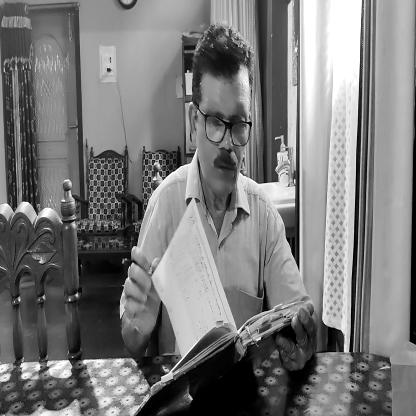Normal: (184, 20, 255, 202), (237, 303, 316, 413)
